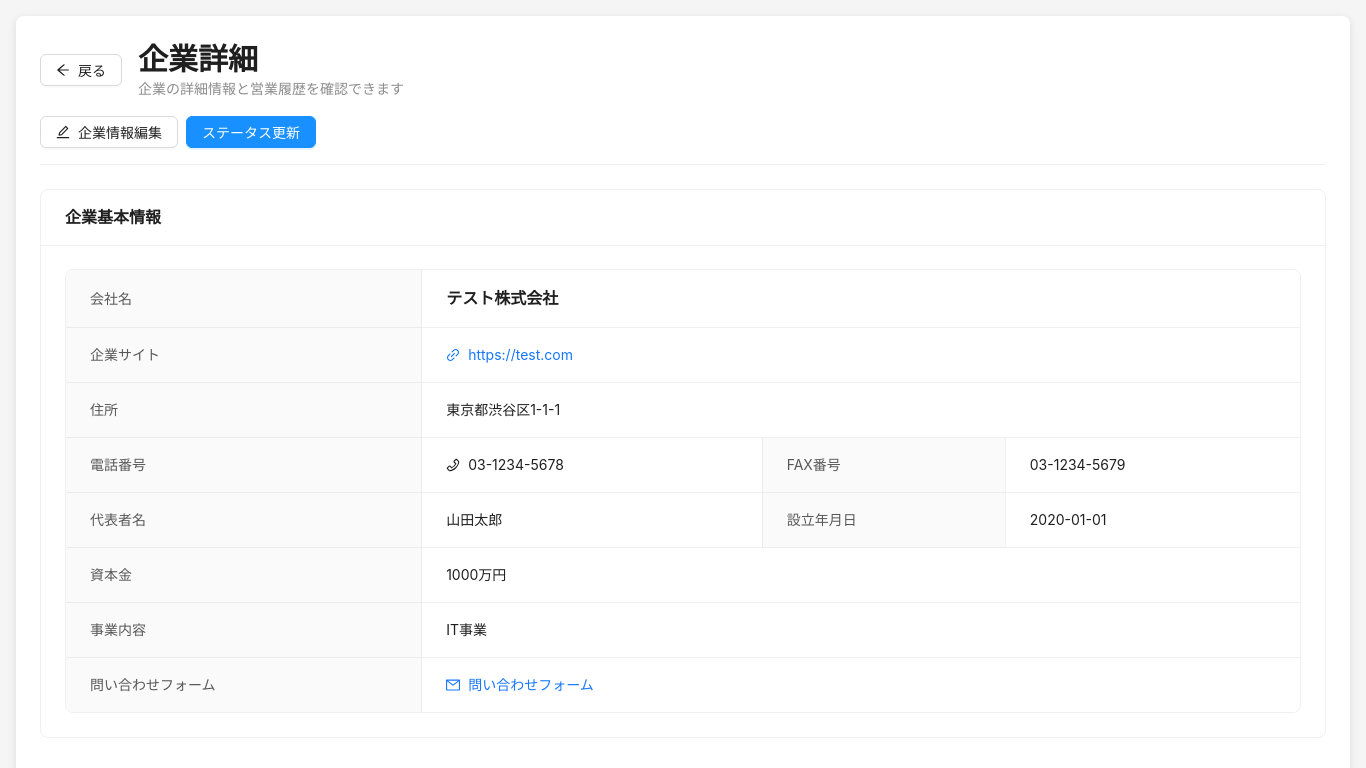
it: CompanyDetail › should open sales status modal when status button clicked
Click the button "ステータス更新": click(251, 132) [186,116,316,148]
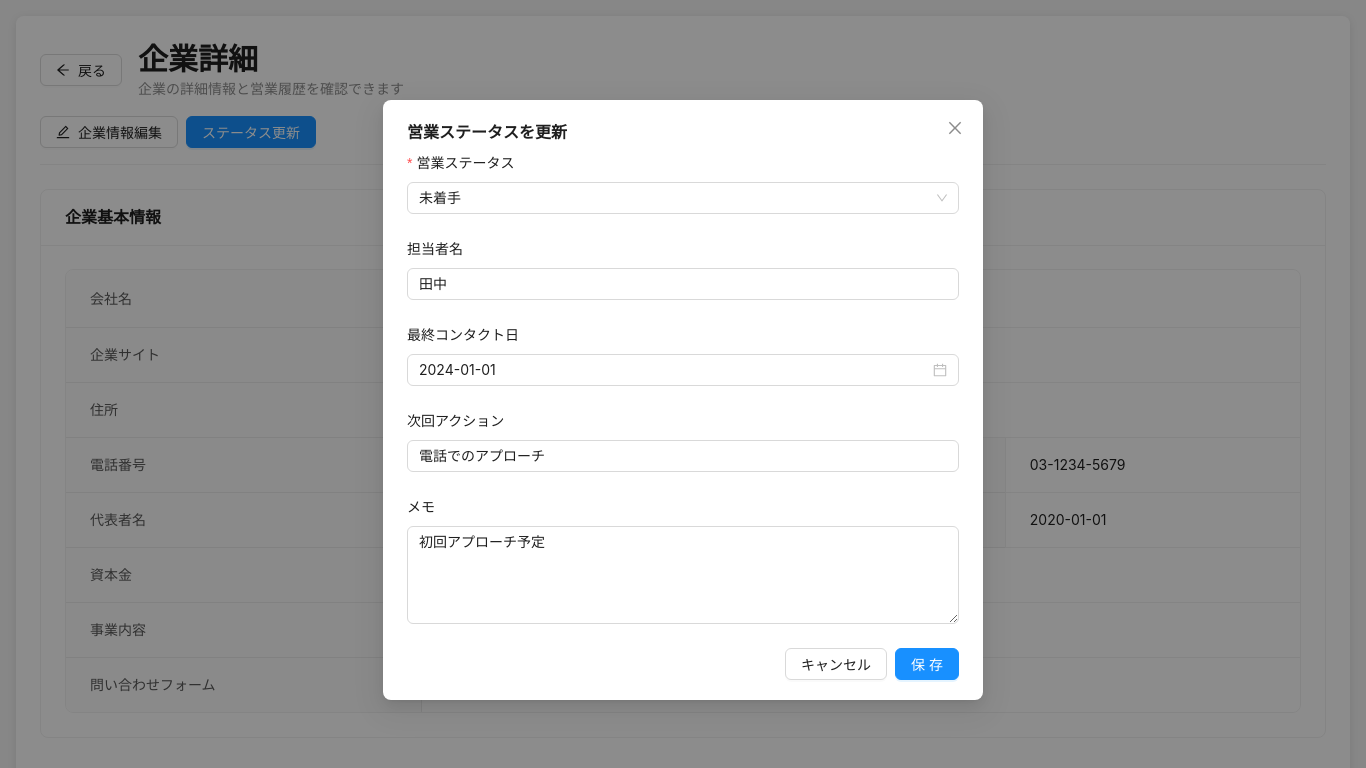
Now the text "営業ステータスを更新" is shown, box [407,122,567,142]
